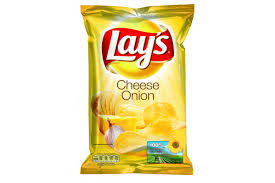lays-med: (79, 3, 192, 171)
